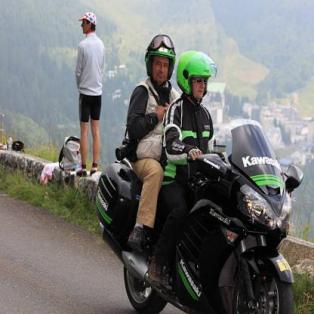Motocicleta: (93, 131, 298, 313)
